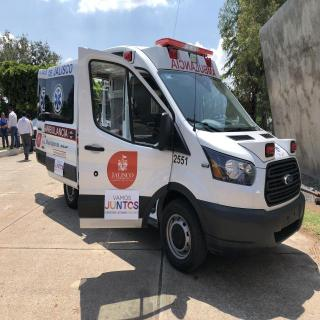Ambulance: (24, 16, 320, 306)
